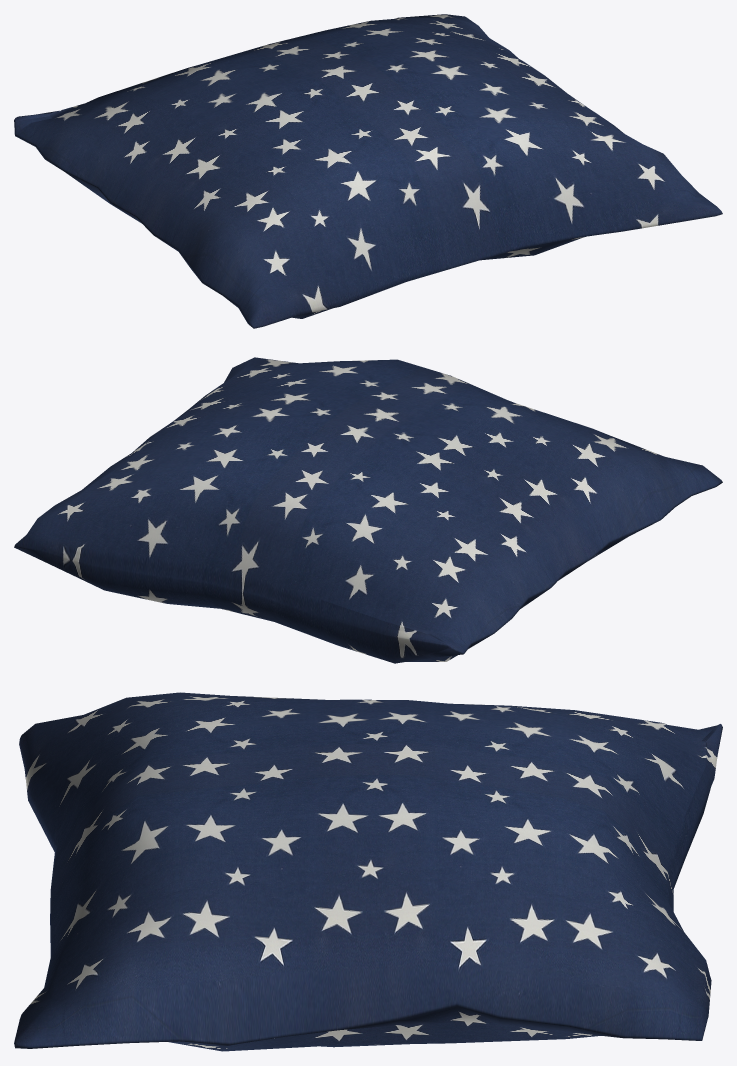
File: Pillow 2.FBX
3 renders of one model, top to bottom at view 1: azimuth 30°, elevation 25°; view 2: azimuth 150°, elevation 25°; view 3: azimuth 270°, elevation 25°, orthographic. The views are drawn at different scales.
Parts seen in each view (by area): view 1: Pillow 2; view 2: Pillow 2; view 3: Pillow 2.
Boxes of the visible parts, x1,y1,x2,y2 form: Pillow 2: [14, 14, 722, 328]; Pillow 2: [14, 357, 722, 663]; Pillow 2: [14, 692, 722, 1051].
Size of the model in its own units: 37.67 by 13.16 by 36.02.
1 material, 1 textured.
